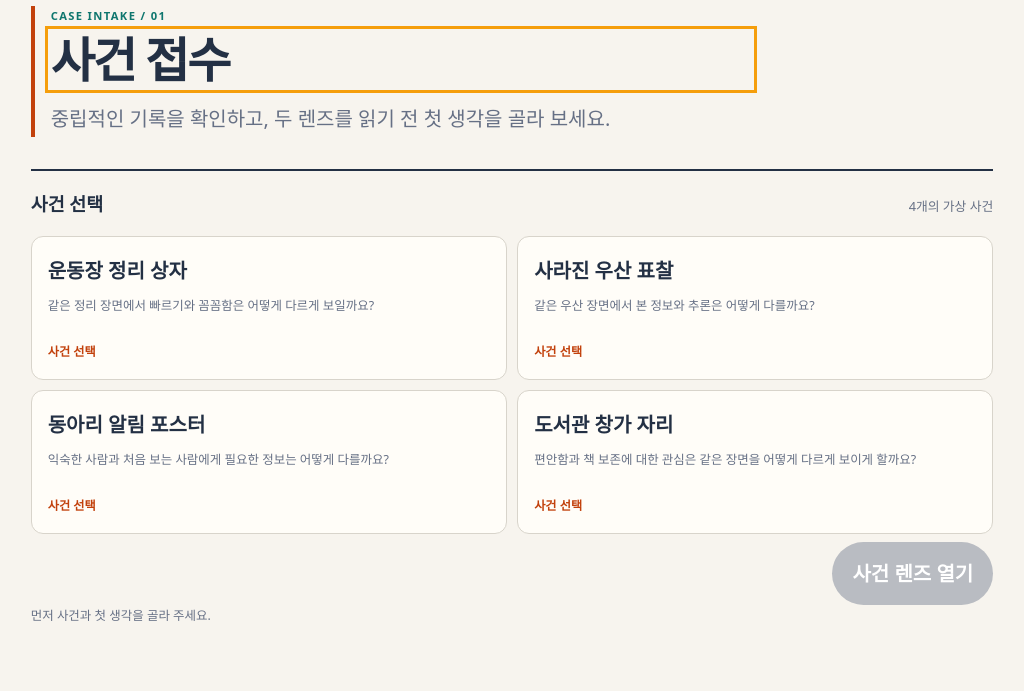
Scenario: AppShell › shows a storage warning without blocking the learner flow
This screenshot has width=1024, height=691.
(page scrolled)
Click the button named "운동장 정리 상자 사건 선택": (269, 308) x1=31 y1=236 x2=507 y2=380
(page scrolled)
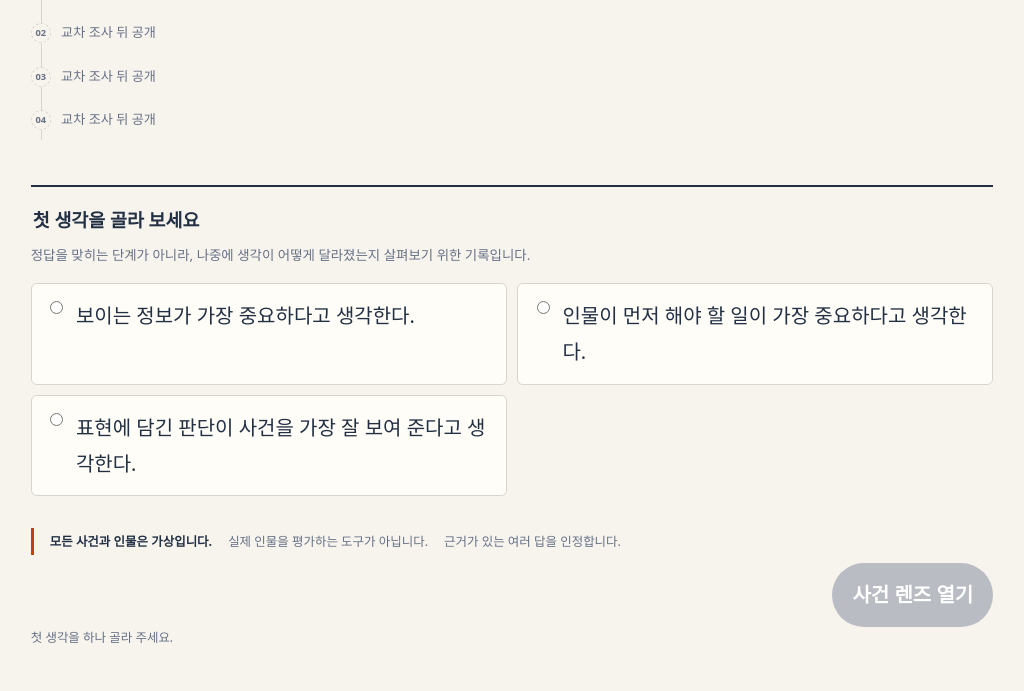
Click the radio button labelled "보이는 정보가 가장 중요하다고 생각한다.": (57, 308) x1=50 y1=301 x2=63 y2=314
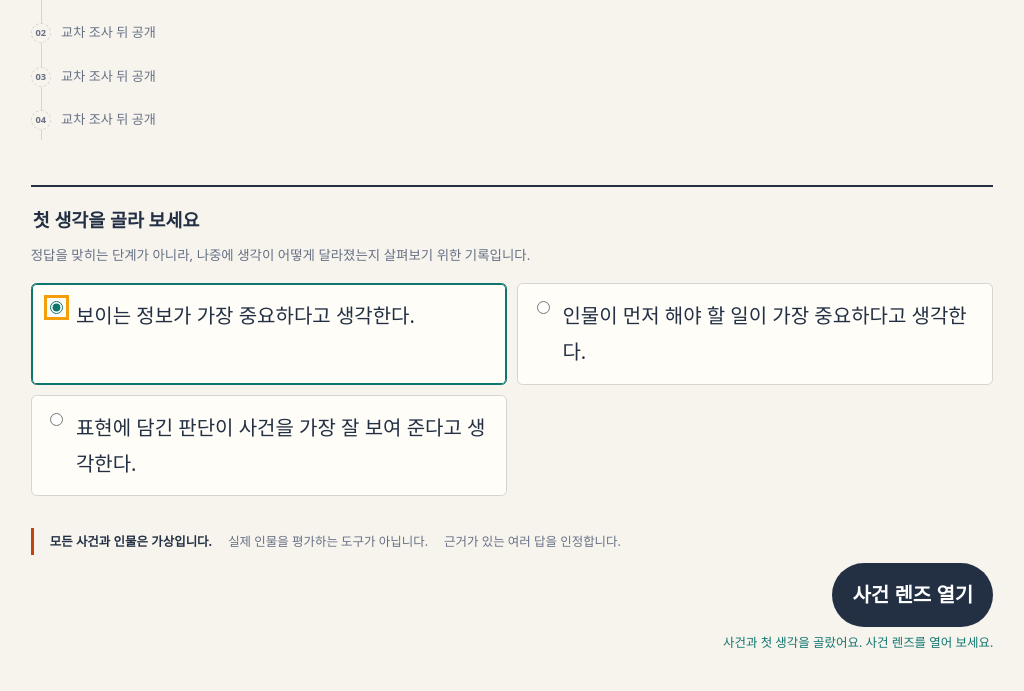
Now the button "사건 렌즈 열기" is enabled, box x1=832 y1=564 x2=993 y2=627
